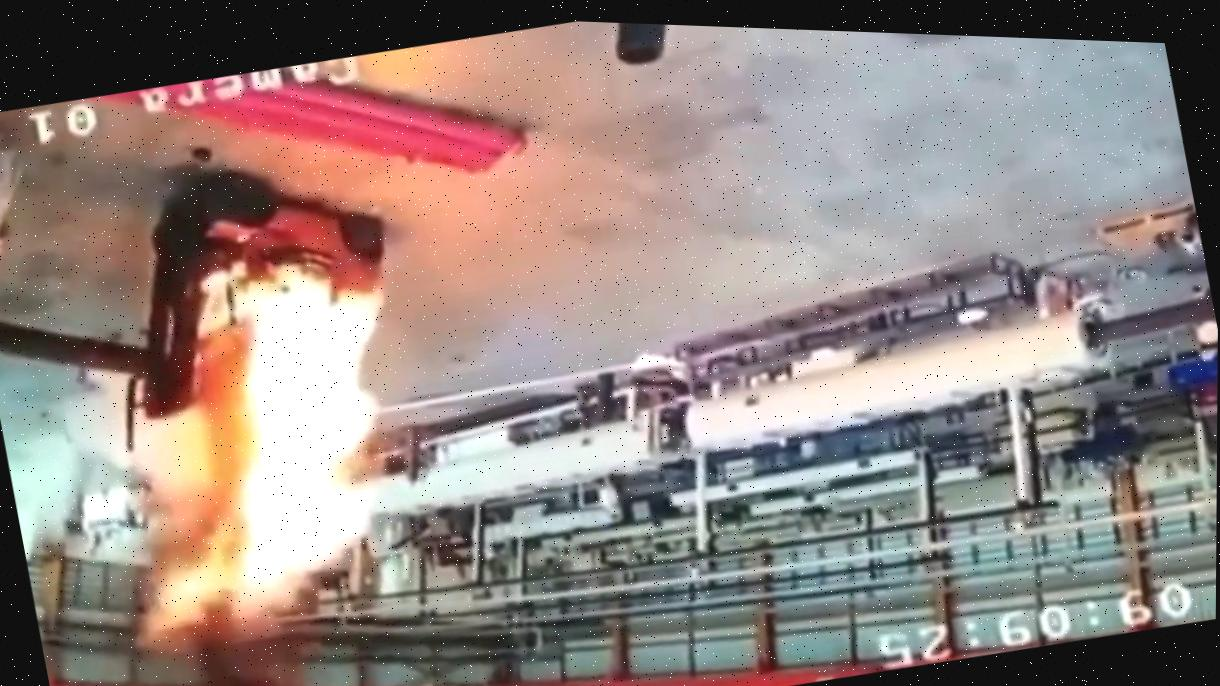fire: (81, 138, 452, 640)
